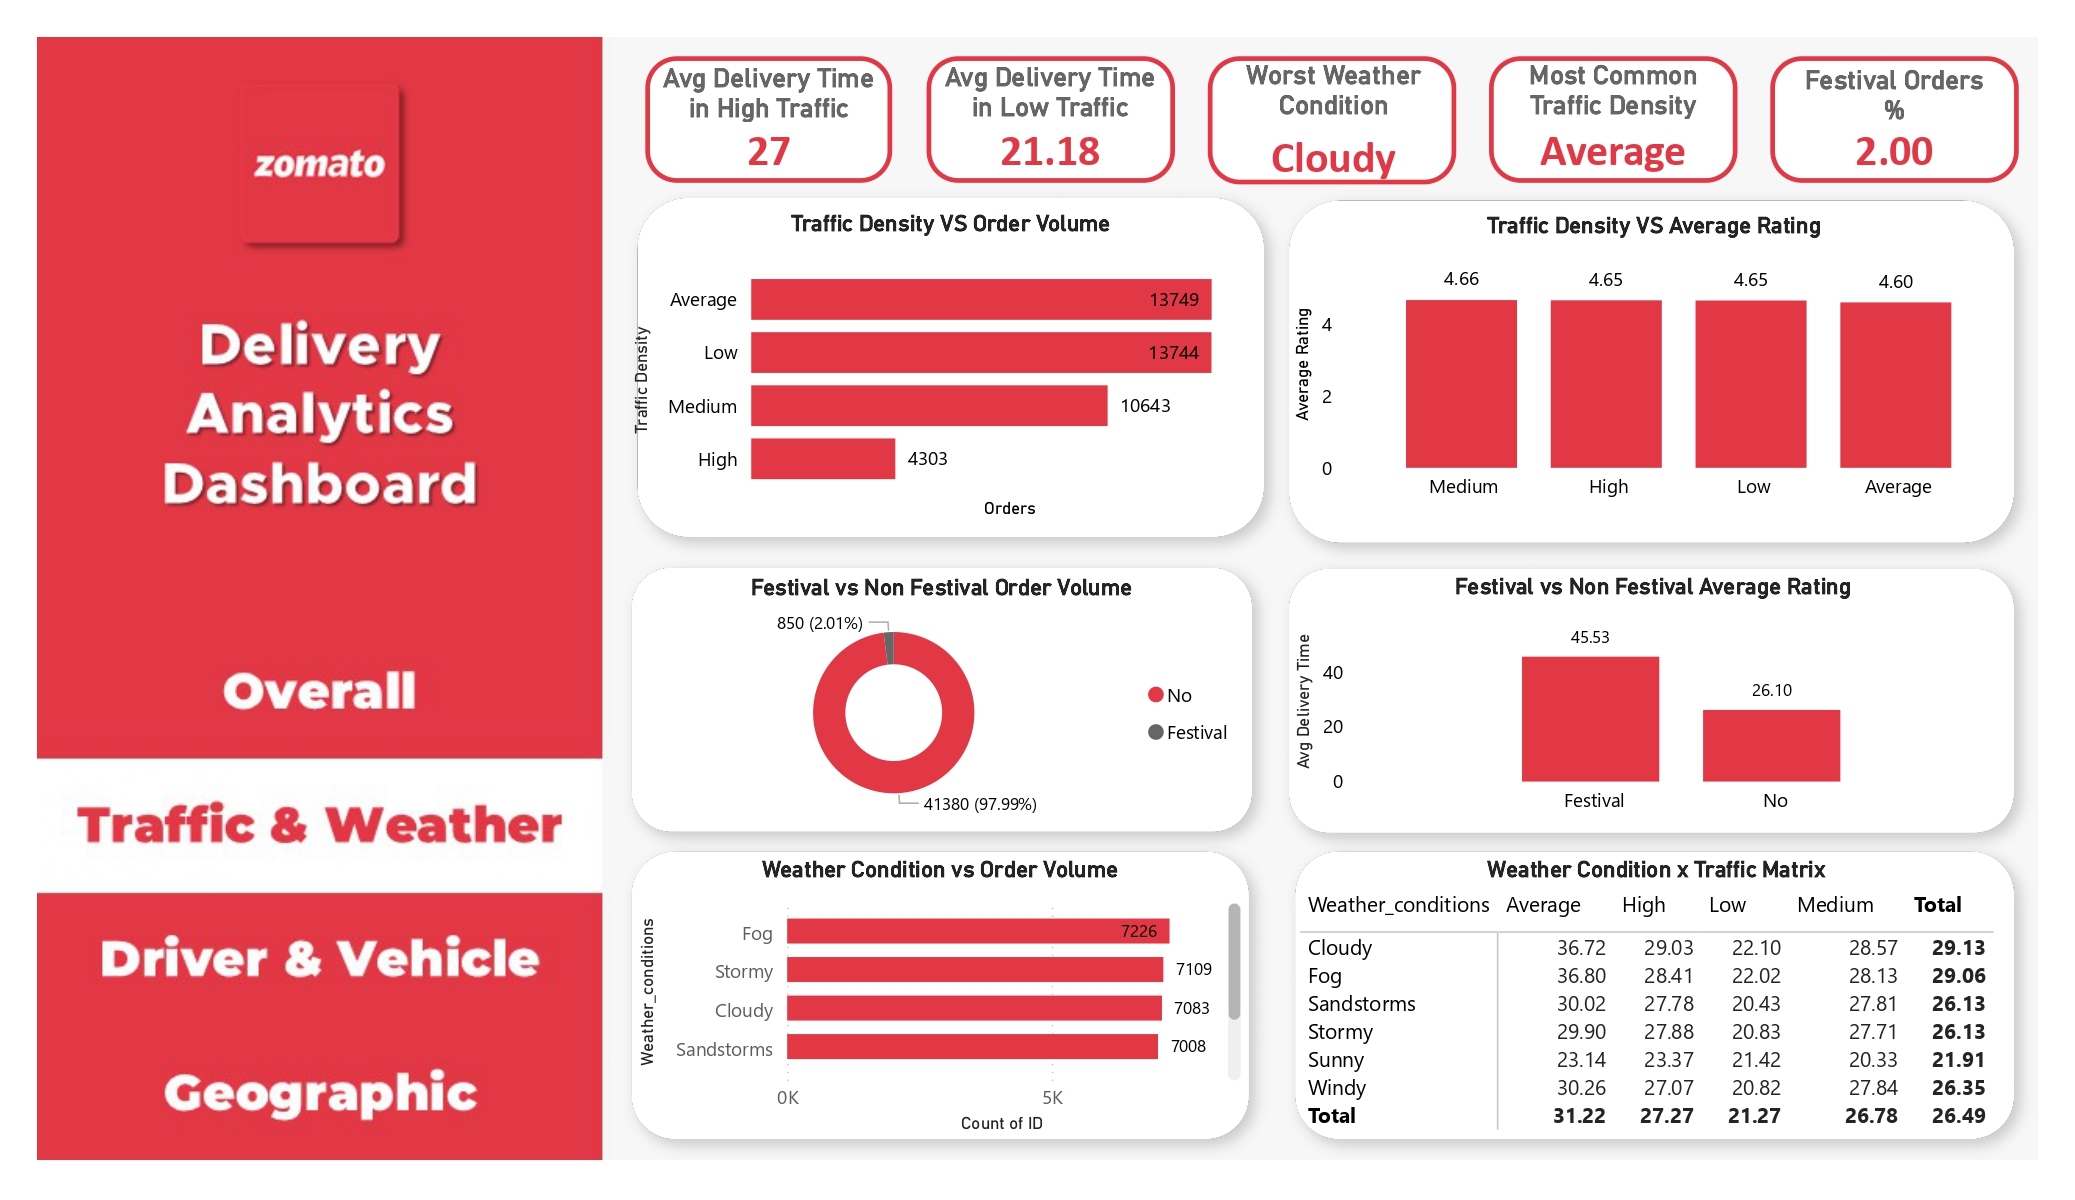

Layout of this report page (visuals, bound fields, positions):
{"tool":"powerbi","page":{"name":"Traffic & Weather","canvas":[1280,720],"ordinal":2},"visuals":[{"type":"actionButton","box":[0,370.5,363.6,87.8],"z":0},{"type":"shape","box":[1109.5,11.7,158.6,81.8],"z":1000},{"type":"card","title":"Worst Weather Condition","fields":{"Values":["Min(Sorted_Zomato.Weather_conditions)"]},"box":[761.4,14.4,137.1,85.7],"z":1000,"group":"g2"},{"type":"card","title":"Avg Delivery Time in Low Traffic","fields":{"Values":["Avg(Sorted_Zomato.Time_taken (min))"]},"box":[575.3,14.8,146,75.5],"z":1000,"group":"g1"},{"type":"card","title":"Festival Orders % ","fields":{"Values":["Sorted_Zomato.Festival Orders %"]},"box":[1123.1,16.9,131.4,71.4],"z":1000,"group":"g3"},{"type":"actionButton","box":[0,547.5,363.6,87.8],"z":2000},{"type":"shape","box":[929.2,11.7,158.6,81.8],"z":3000},{"type":"actionButton","box":[0,632.6,363.6,87.8],"z":4000},{"type":"shape","box":[749.2,11.7,158.3,82.5],"z":5000},{"type":"card","title":"Most Common Traffic Density","fields":{"Values":["Min(Sorted_Zomato.Road_traffic_density)"]},"box":[935.5,14.2,146,76.8],"z":6000},{"type":"shape","box":[569,11.7,158.6,81.8],"z":7000},{"type":"shape","box":[388.7,11.7,158.6,81.8],"z":8000},{"type":"card","title":"Avg Delivery Time in High Traffic","fields":{"Values":["Avg(Sorted_Zomato.Time_taken (min))"]},"box":[391.9,16.1,152.3,73],"z":9000},{"type":"group","id":"g1","title":"Group 4","box":[575.3,14.8,146,75.5],"z":10000},{"type":"group","id":"g2","title":"Group 3","box":[761.4,14.4,137.1,85.7],"z":11000},{"type":"group","id":"g3","title":"Group 5","box":[1123.1,16.9,131.4,71.4],"z":12000},{"type":"group","id":"g4","title":"Group 1","box":[369.3,87.9,431.4,247.1],"z":13000},{"type":"shape","box":[369.3,87.9,431.4,247.1],"z":13000,"group":"g4"},{"type":"group","id":"g5","title":"Group 2","box":[785.7,88.6,494.3,248.6],"z":14000},{"type":"clusteredBarChart","title":"Traffic Density VS Order Volume","fields":{"Y":["Count(Sorted_Zomato.ID)"],"Category":["Sorted_Zomato.Road_traffic_density"]},"box":[376.4,110.8,417.1,201.4],"z":14000,"group":"g4"},{"type":"shape","box":[785.7,88.6,494.3,248.6],"z":15000,"group":"g5"},{"type":"group","id":"g6","title":"Group 6","box":[365,324.3,427.1,198.6],"z":15000},{"type":"clusteredColumnChart","title":"Traffic Density VS Average Rating","fields":{"Category":["Sorted_Zomato.Road_traffic_density"],"Y":["Avg(Sorted_Zomato.Delivery_person_Ratings)"]},"box":[798.6,111.5,471.4,202.9],"z":16000,"group":"g5"},{"type":"group","id":"g7","title":"Group 7","box":[785.7,325.4,494.3,198.6],"z":16000},{"type":"shape","box":[365,324.3,427.1,198.6],"z":17000,"group":"g6"},{"type":"group","id":"g8","title":"Group 8","box":[364.6,505.7,425.7,214.3],"z":17000},{"type":"donutChart","title":"Festival vs Non Festival Order Volume","fields":{"Y":["Count(Sorted_Zomato.ID)"],"Category":["Sorted_Zomato.Festival"]},"box":[380.7,344.3,395.7,158.6],"z":18000,"group":"g6"},{"type":"group","id":"g9","title":"Group 9","box":[790,505.7,490,214.3],"z":18000},{"type":"shape","box":[785.7,325.4,494.3,198.6],"z":19000,"group":"g7"},{"type":"clusteredColumnChart","title":"Festival vs Non Festival Average Rating","fields":{"Category":["Sorted_Zomato.Festival"],"Y":["Avg(Sorted_Zomato.Time_taken (min))"]},"box":[799.3,343.3,468.6,162.9],"z":20000,"group":"g7"},{"type":"shape","box":[364.6,505.7,425.7,214.3],"z":21000,"group":"g8"},{"type":"clusteredBarChart","title":"Weather Condition vs Order Volume","fields":{"Y":["Count(Sorted_Zomato.ID)"],"Category":["Sorted_Zomato.Weather_conditions"]},"box":[379.6,520,395.7,185.7],"z":22000,"group":"g8"},{"type":"shape","box":[790,505.7,490,214.3],"z":23000,"group":"g9"},{"type":"pivotTable","title":"Weather Condition x Traffic Matrix","fields":{"Rows":["Sorted_Zomato.Weather_conditions"],"Columns":["Sorted_Zomato.Road_traffic_density"],"Values":["Avg(Sorted_Zomato.Time_taken (min))"]},"box":[802.5,520,465.7,185.7],"z":24000,"group":"g9"}]}

Visuals, with their boxes on the page's 1280x720 design canvas (x1, y1, x2, y2). These are canvas units, not pixel positions in the 2075x1200 screenshot, which may show the page scaled, cropped or inside an application window:
actionButton: 0 370 364 458
shape: 1110 12 1268 94
"Worst Weather Condition" card: 761 14 898 100
"Avg Delivery Time in Low Traffic" card: 575 15 721 90
"Festival Orders % " card: 1123 17 1254 88
actionButton: 0 548 364 635
shape: 929 12 1088 94
actionButton: 0 633 364 720
shape: 749 12 908 94
"Most Common Traffic Density" card: 936 14 1082 91
shape: 569 12 728 94
shape: 389 12 547 94
"Avg Delivery Time in High Traffic" card: 392 16 544 89
"Group 4" group: 575 15 721 90
"Group 3" group: 761 14 898 100
"Group 5" group: 1123 17 1254 88
"Group 1" group: 369 88 801 335
shape: 369 88 801 335
"Group 2" group: 786 89 1280 337
"Traffic Density VS Order Volume" clusteredBarChart: 376 111 794 312
shape: 786 89 1280 337
"Group 6" group: 365 324 792 523
"Traffic Density VS Average Rating" clusteredColumnChart: 799 112 1270 314
"Group 7" group: 786 325 1280 524
shape: 365 324 792 523
"Group 8" group: 365 506 790 720
"Festival vs Non Festival Order Volume" donutChart: 381 344 776 503
"Group 9" group: 790 506 1280 720
shape: 786 325 1280 524
"Festival vs Non Festival Average Rating" clusteredColumnChart: 799 343 1268 506
shape: 365 506 790 720
"Weather Condition vs Order Volume" clusteredBarChart: 380 520 775 706
shape: 790 506 1280 720
"Weather Condition x Traffic Matrix" pivotTable: 802 520 1268 706
